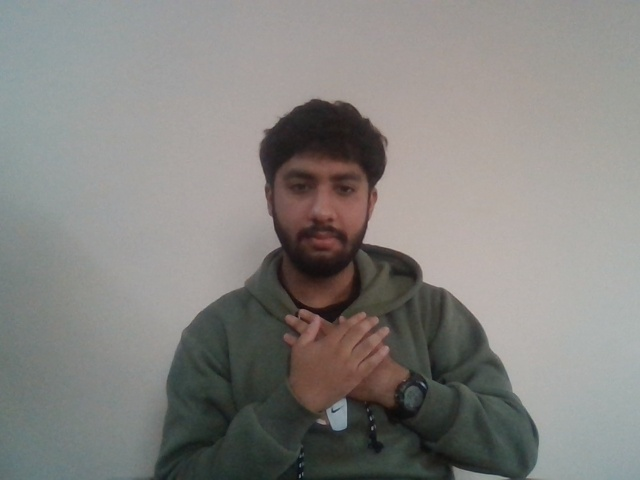Please: (263, 301, 412, 408)
